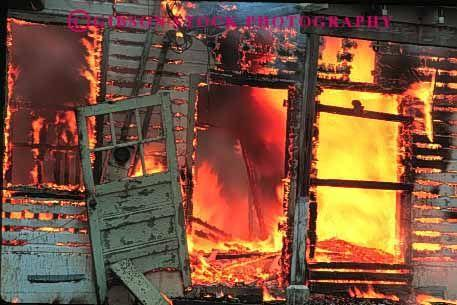fire: (161, 26, 457, 298), (0, 52, 87, 237)
